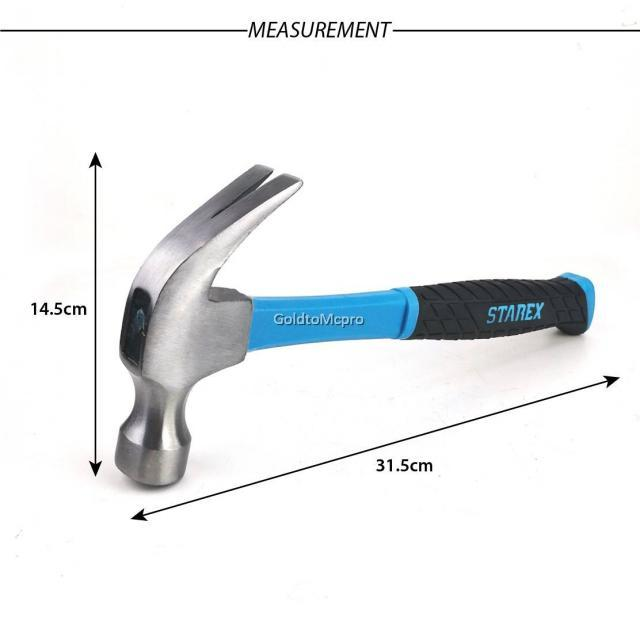hammer: (87, 160, 604, 492)
